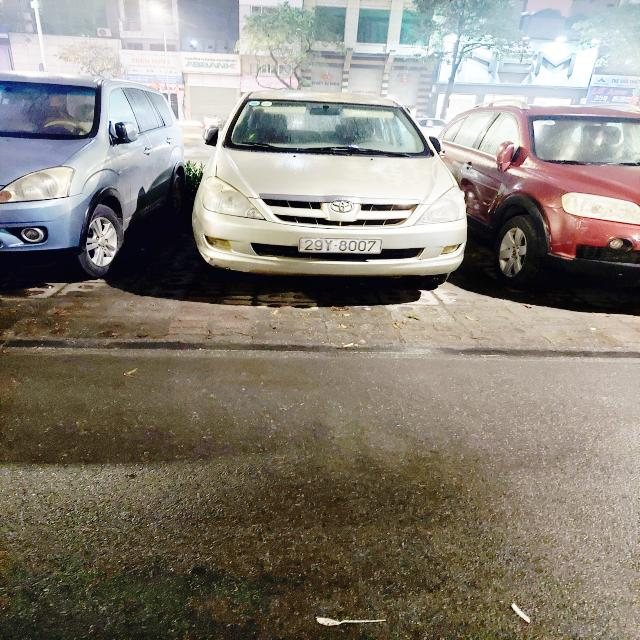license_plate: (299, 237, 387, 255)
